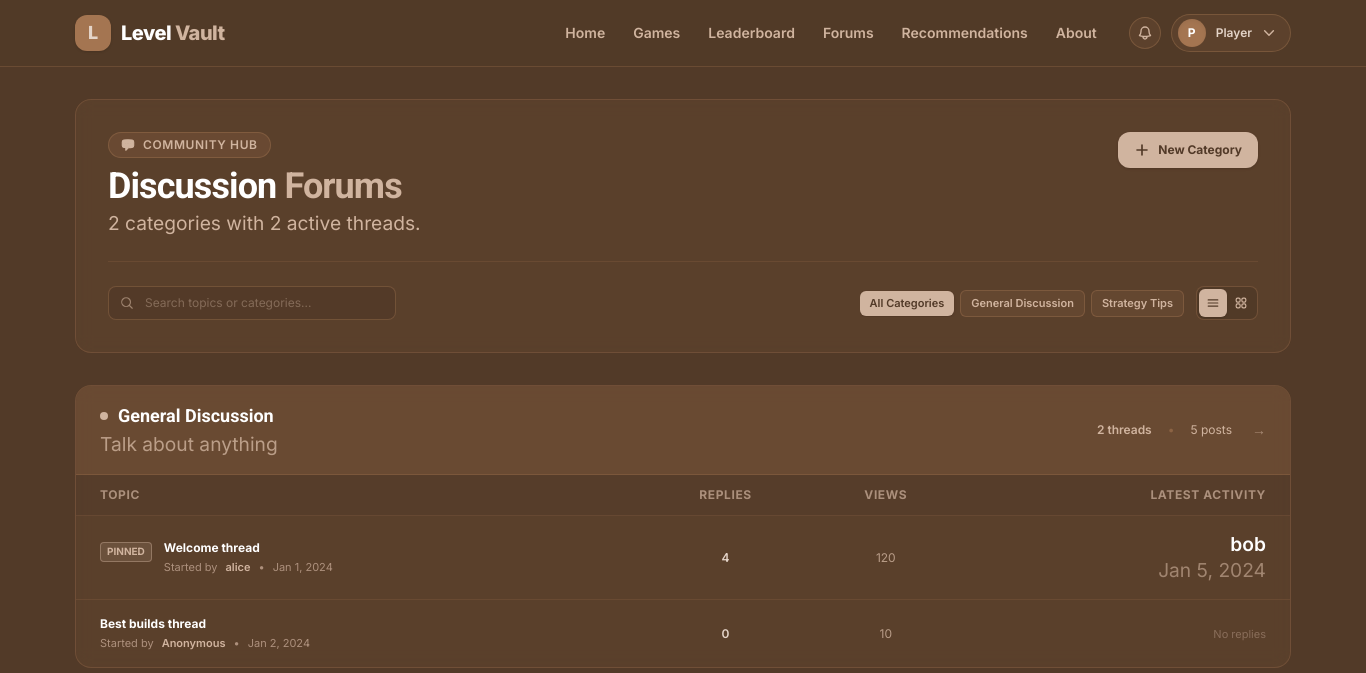
Test: ForumsPage › shows a no-match state and resets filters on click
The image size is (1366, 673).
Step 1. Type "zzz-nomatch" into the field with placeholder "Search topics or categories..." → (252,303), box [108,286,396,320]
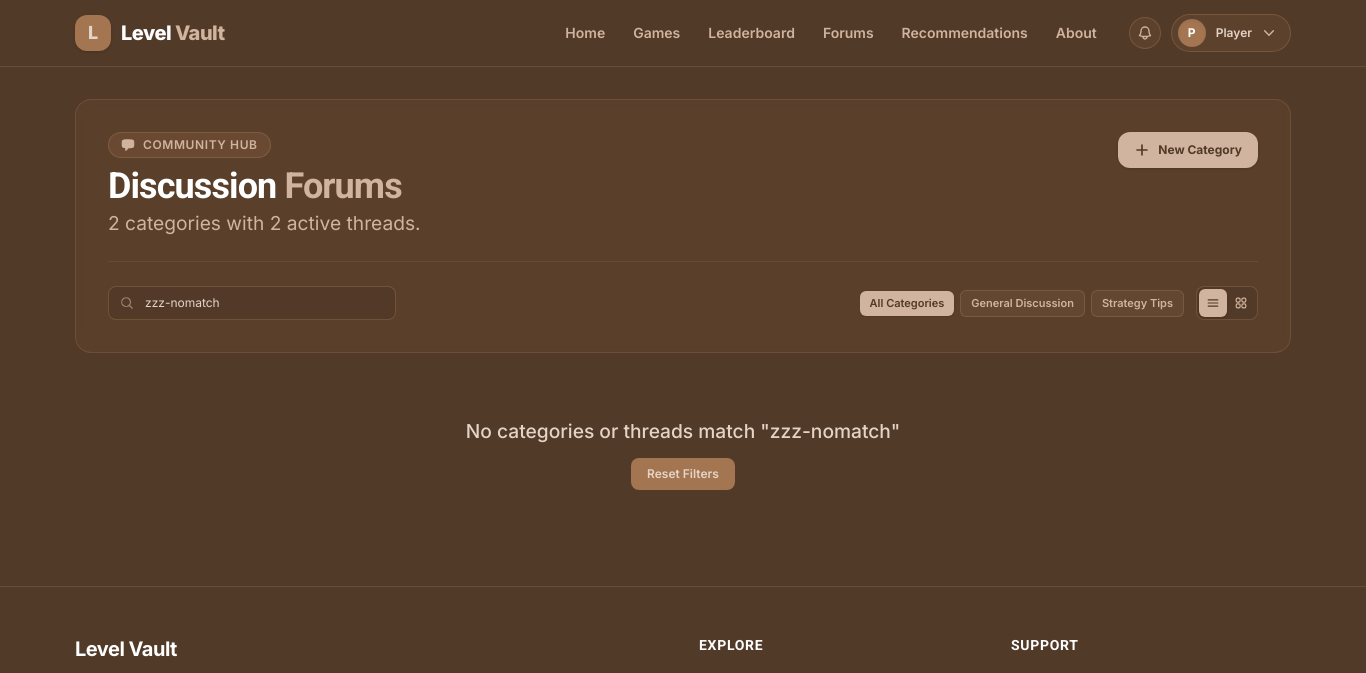
Check: the text "No categories or threads match \"zzz-nomatch\"" is shown, box [466,417,900,446]
Step 2. Click the button "Reset Filters" → (683,474), box [631,458,735,490]
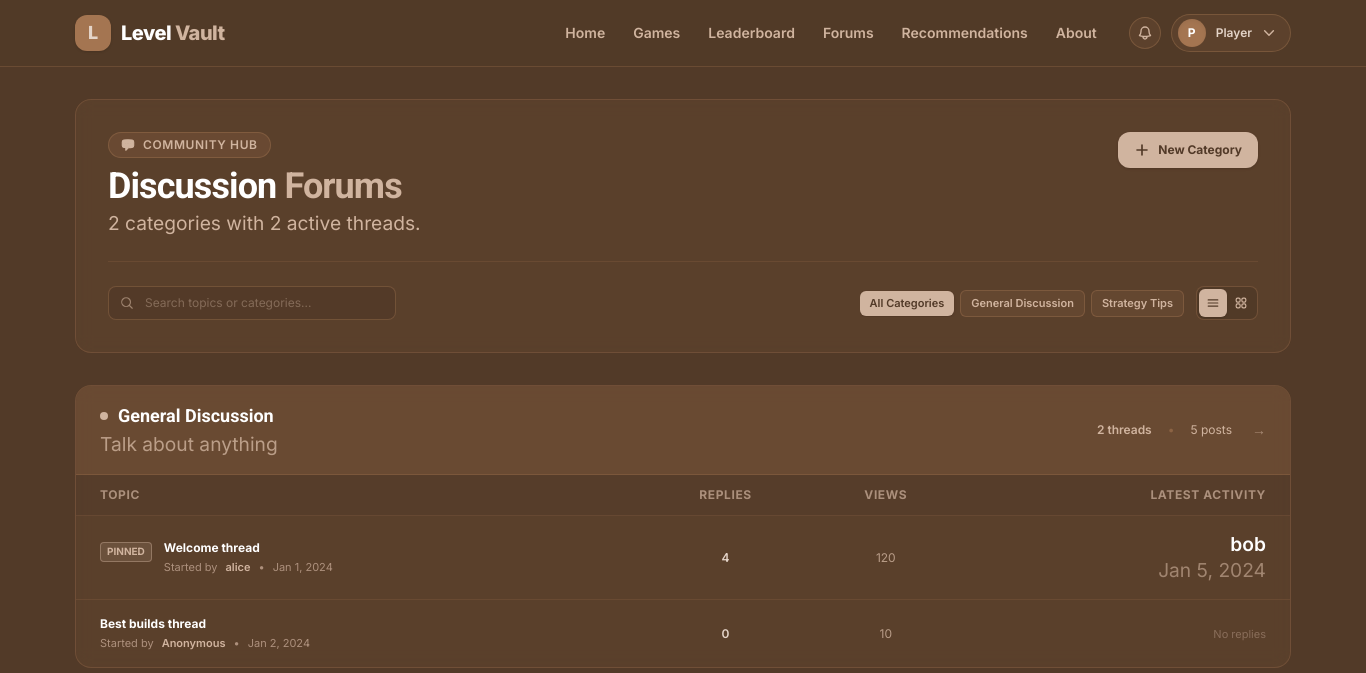
Check: the heading "General Discussion" is shown, box [118,402,274,430]
